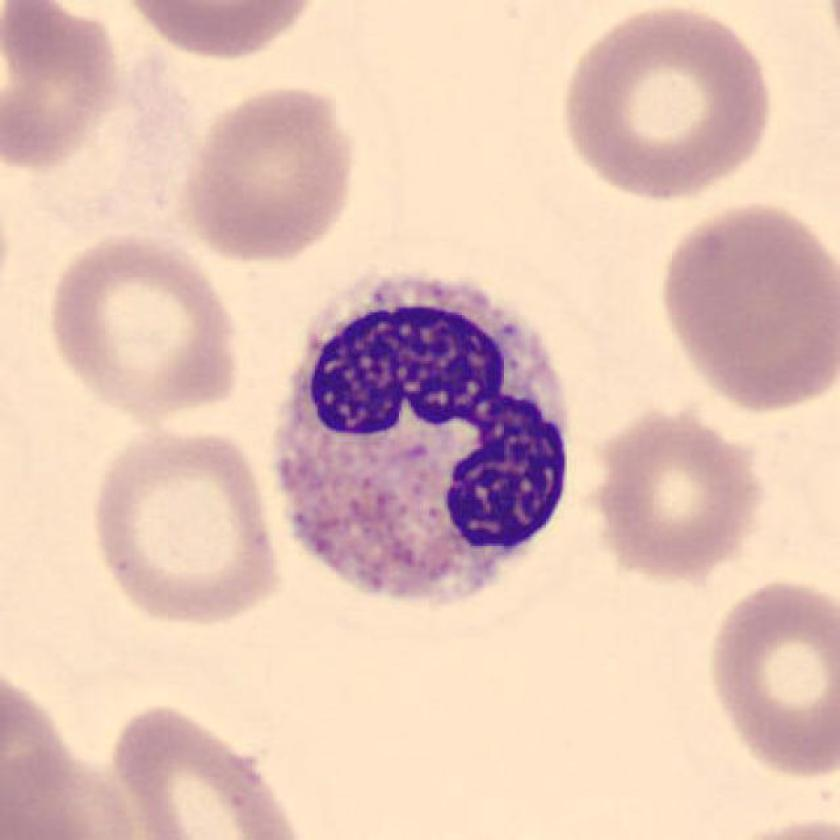neutrophil: (270, 277, 572, 602)
